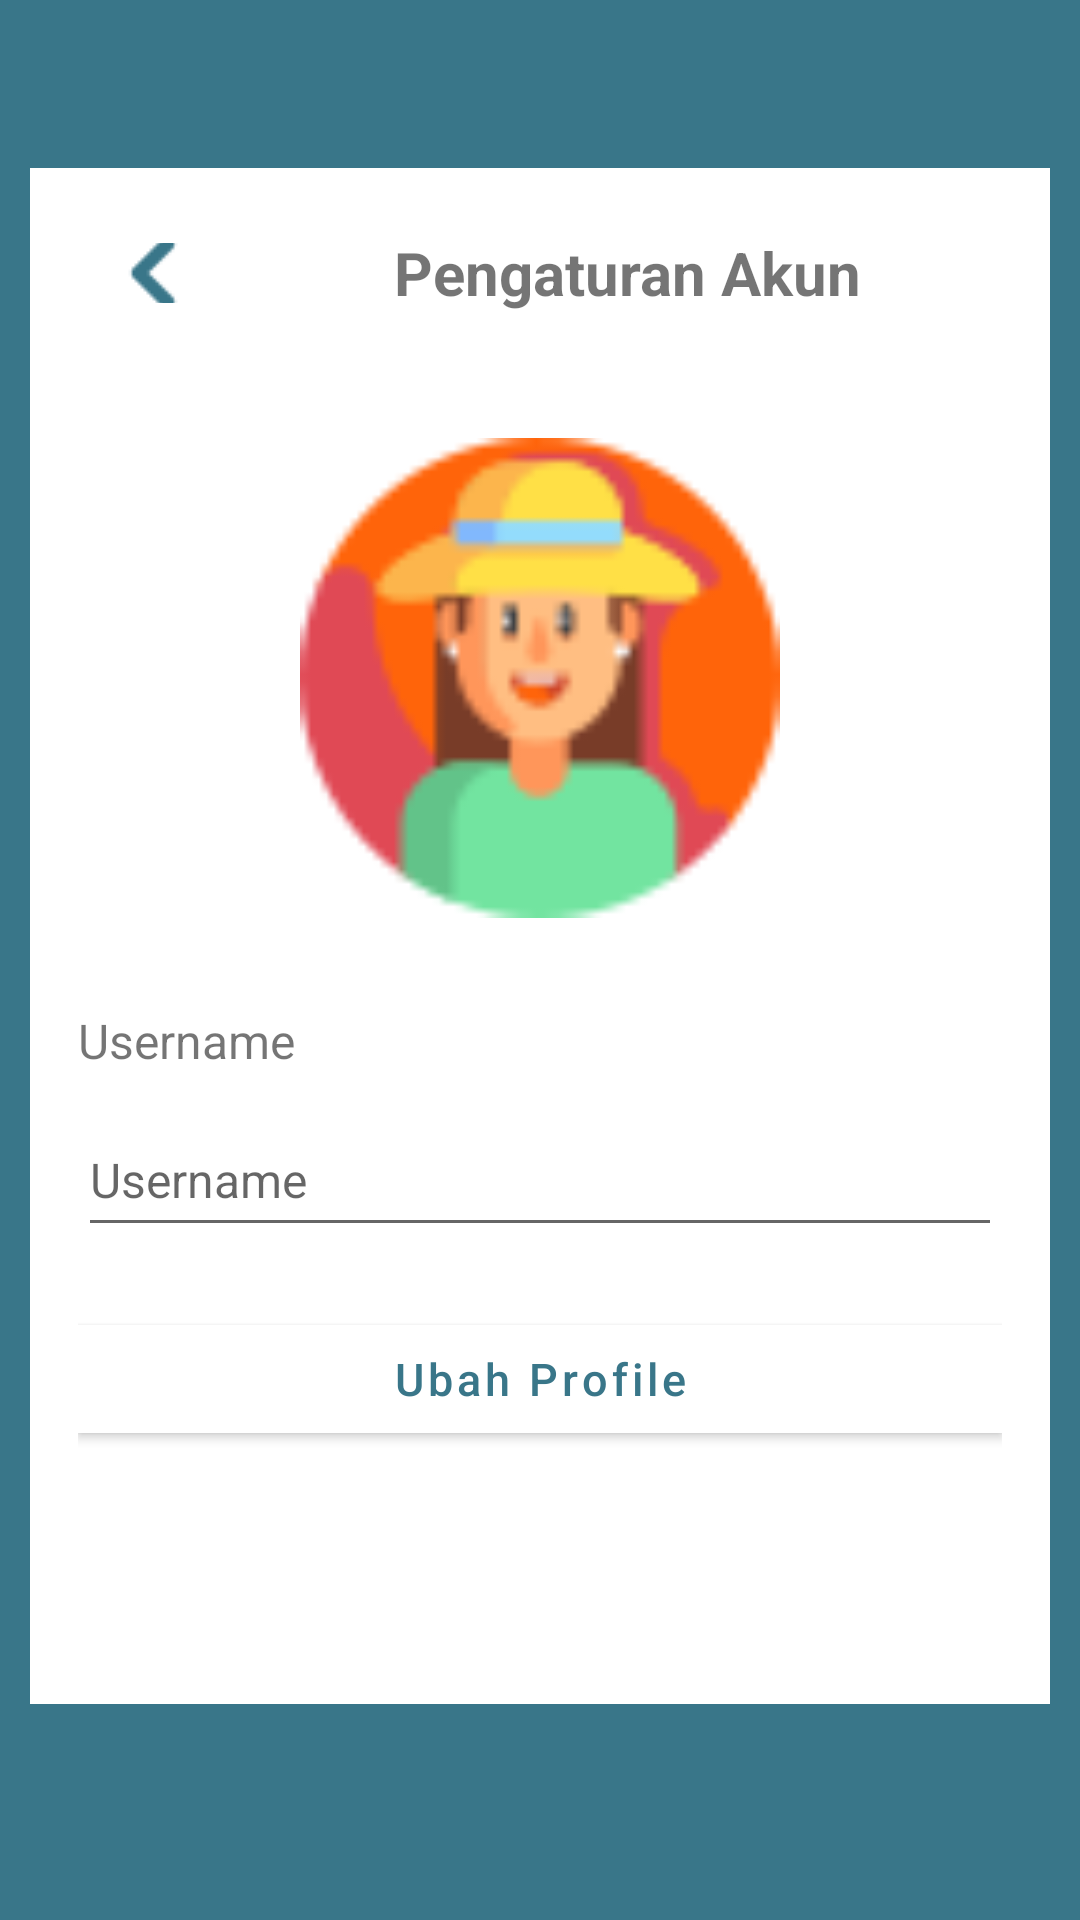

Where icons sit on this 1080*1920 app screen, as (x1, y1, x2, y2):
Kembali ke halaman sebelumnya: (131, 243, 176, 303)
